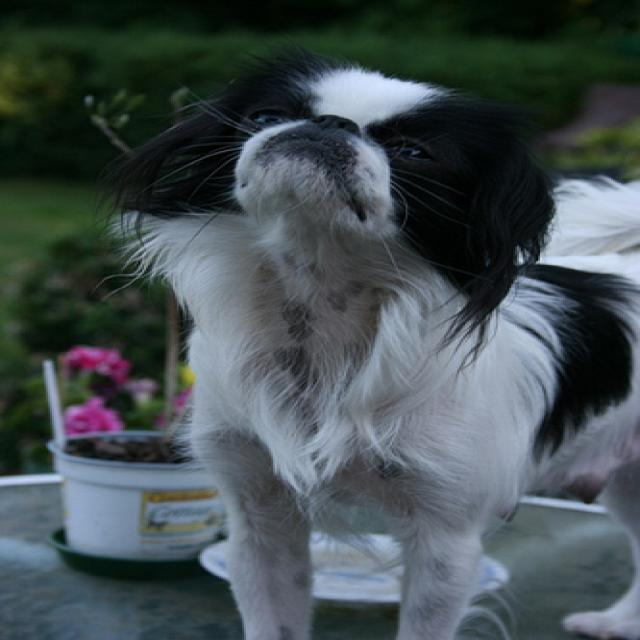dog-japanese_chin: (77, 36, 636, 637)
